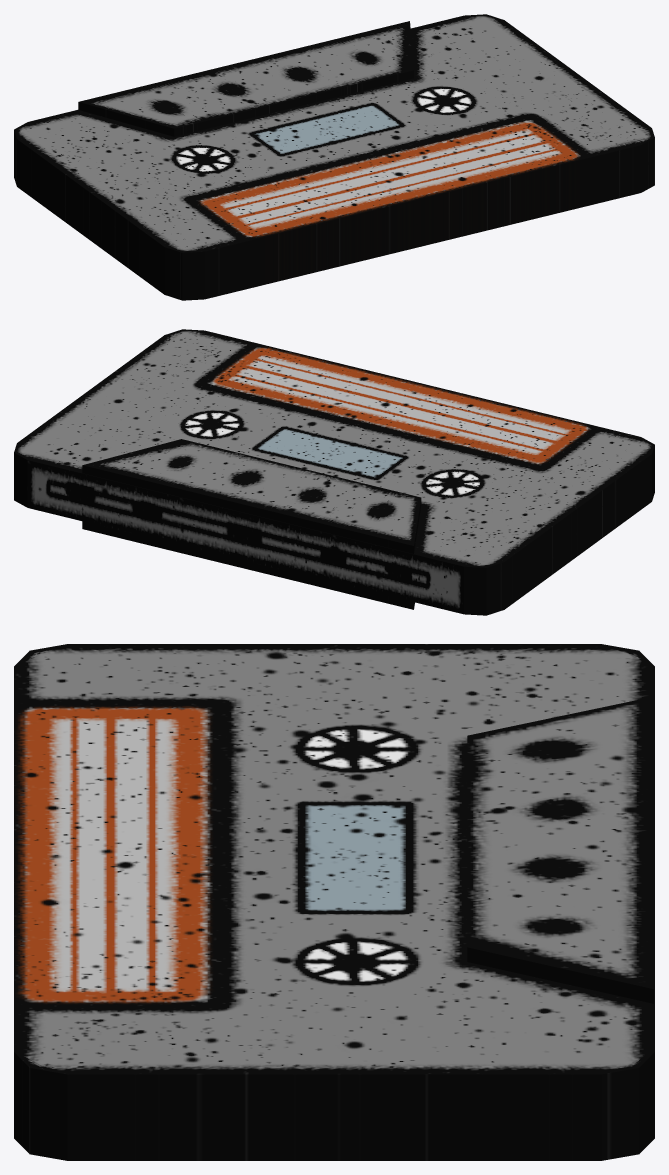
The model's file is 8t_tape.obj.
3 views of the same model, one above another, from view 1: azimuth 30°, elevation 25°; view 2: azimuth 150°, elevation 25°; view 3: azimuth 270°, elevation 25° (orthographic). The views are drawn at different scales.
Parts seen in each view (by area): view 1: Cube_Cube.001; view 2: Cube_Cube.001; view 3: Cube_Cube.001.
Boxes of the visible parts, left/top/right/bottom form: Cube_Cube.001: left=14, top=14, right=654, bottom=300; Cube_Cube.001: left=14, top=329, right=654, bottom=615; Cube_Cube.001: left=14, top=644, right=654, bottom=1160.
Size of the model in its own units: 0.3257 by 0.0408 by 0.205.
